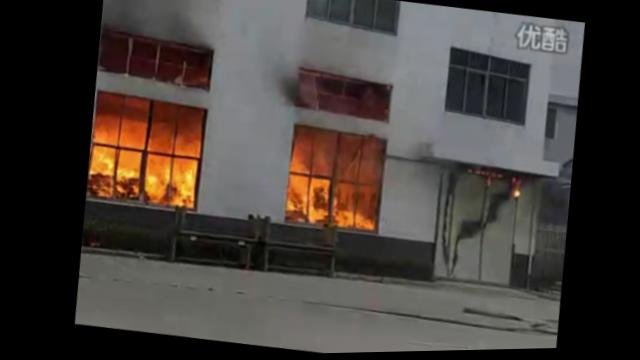fire: (115, 96, 149, 149), (90, 91, 122, 145), (143, 102, 176, 154), (169, 106, 203, 156), (164, 158, 195, 209), (139, 154, 169, 205), (306, 130, 336, 179), (302, 177, 329, 223), (286, 128, 312, 174), (281, 175, 308, 216), (112, 149, 141, 183), (86, 145, 114, 177), (327, 205, 351, 229), (350, 213, 374, 231)
